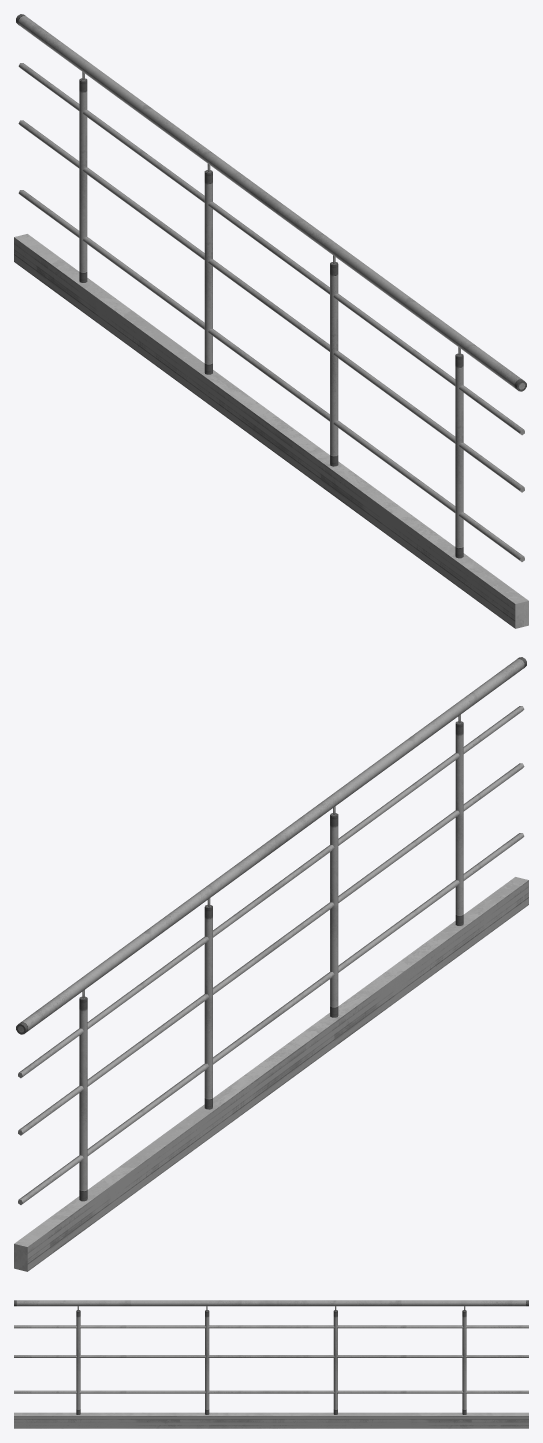
The model's file is HH_Railing_4m.fbx.
The picture shows the model from 3 angles, top to bottom: view 1: azimuth 30°, elevation 25°; view 2: azimuth 150°, elevation 25°; view 3: azimuth 270°, elevation 25°; orthographic projection. The views are drawn at different scales.
Parts seen in each view (by area): view 1: HH_Railing_4m_LOD0; view 2: HH_Railing_4m_LOD0; view 3: HH_Railing_4m_LOD0.
Boxes of the visible parts, x1=… form: HH_Railing_4m_LOD0: x1=14, y1=14, x2=528, y2=628; HH_Railing_4m_LOD0: x1=14, y1=657, x2=528, y2=1271; HH_Railing_4m_LOD0: x1=14, y1=1300, x2=528, y2=1428.
Size of what is drawn, in the model's own units: 6.25 by 108 by 400.
